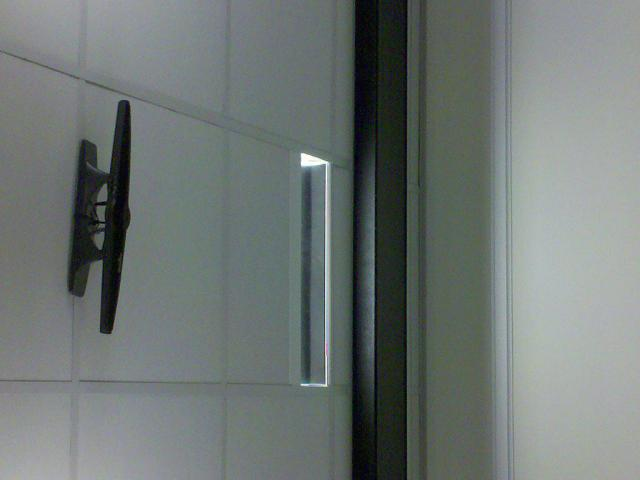Door-handle: (67, 99, 132, 335)
